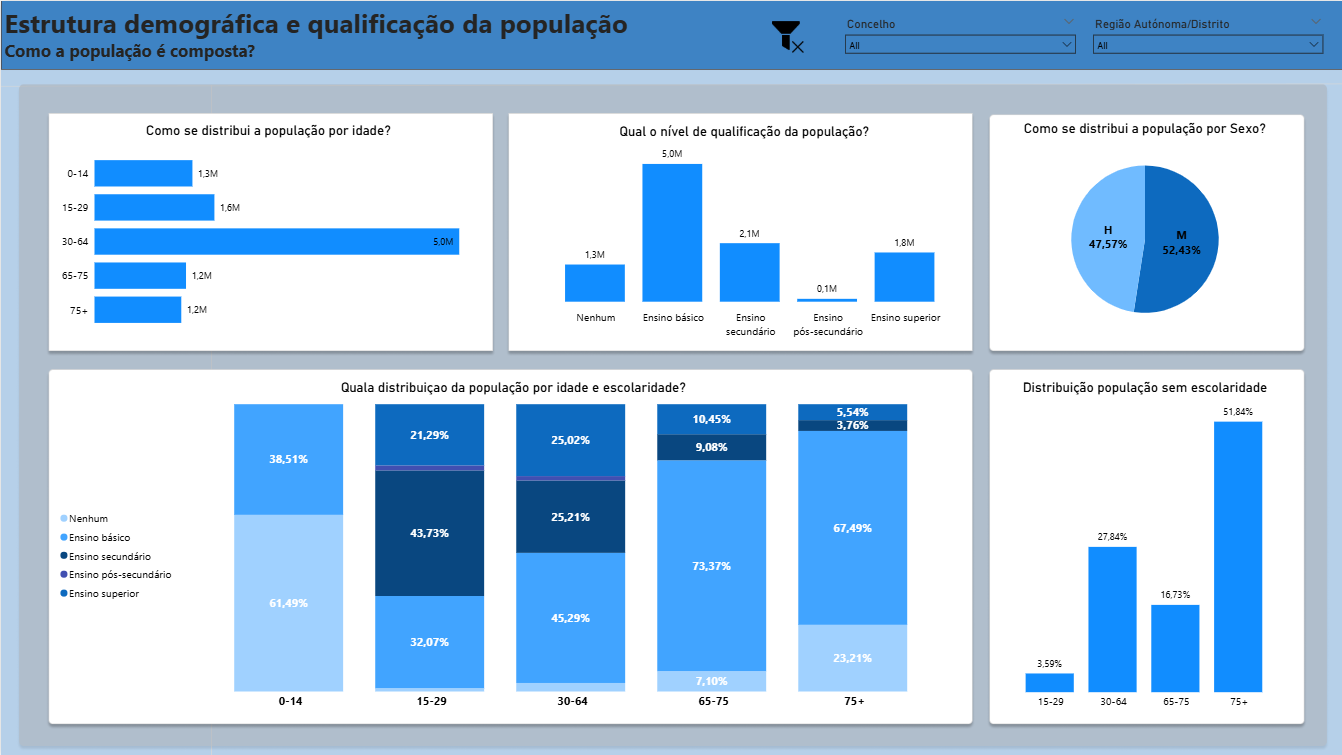

The dashboard page shown, as its layout file describes it:
{"tool":"powerbi","page":{"name":"Estrutura demográfica e qualificação","canvas":[1920,1080],"ordinal":1},"visuals":[{"type":"textbox","box":[0,0,908.8,93.8],"z":0},{"type":"pieChart","title":"Como se distribui a população por Sexo?","fields":{"Category":["dim_sexo.sexo"],"Y":["Measures (2).Pop_Total_"]},"box":[1422.9,170,422.9,318.6],"z":1000},{"type":"clusteredBarChart","title":"Como se distribui a população por idade?","fields":{"Category":["dim_faixa_etaria.Faixa Etária"],"Y":["Measures (2).Pop_Total_"]},"box":[78.6,172.9,607.1,312.9],"z":2000},{"type":"hundredPercentStackedColumnChart","title":"Quala distribuiçao da população por idade e escolaridade?","fields":{"Y":["Measures (2).Pop_Total_"],"Category":["dim_faixa_etaria.Faixa Etária"],"Series":["dim_escolaridade.escolaridade"]},"box":[78.6,540,1307.1,481.4],"z":3000},{"type":"columnChart","title":"Qual o nível de qualificação da população?","fields":{"Y":["Measures (2).Pop_Total_"],"Category":["dim_escolaridade.escolaridade"]},"box":[738.6,174.3,647.1,314.3],"z":4000},{"type":"columnChart","title":"Distribuição população sem escolaridade","fields":{"Category":["dim_faixa_etaria.Faixa Etária"],"Y":["Divide(Measures (2).Pop_Total_Sem_Escolaridade, ScopedEval(Measures (2).Pop_Total_Sem_Escolaridade, []))"]},"box":[1422.9,540,422.9,481.4],"z":5000},{"type":"image","box":[1102,26,45,51.2],"z":6000},{"type":"slicer","fields":{"Values":["dim_geografia.Territorio_Admin"]},"box":[1550,17.1,348.6,60],"z":7000},{"type":"slicer","fields":{"Values":["dim_geografia.Concelho"]},"box":[1195.7,17.1,350,60],"z":8000}]}

Visuals, with their boxes in screenshot pixels (x1, y1, x2, y2), scaled from the page's 1920x1080 canvas onto the 1342x755 screenshot:
textbox: l=0, t=0, r=635, b=66
"Como se distribui a população por Sexo?" pieChart: l=995, t=119, r=1290, b=342
"Como se distribui a população por idade?" clusteredBarChart: l=55, t=121, r=479, b=340
"Quala distribuiçao da população por idade e escolaridade?" hundredPercentStackedColumnChart: l=55, t=378, r=969, b=714
"Qual o nível de qualificação da população?" columnChart: l=516, t=122, r=969, b=342
"Distribuição população sem escolaridade" columnChart: l=995, t=378, r=1290, b=714
image: l=770, t=18, r=802, b=54
slicer - dim_geografia.Territorio_Admin: l=1083, t=12, r=1327, b=54
slicer - dim_geografia.Concelho: l=836, t=12, r=1080, b=54
